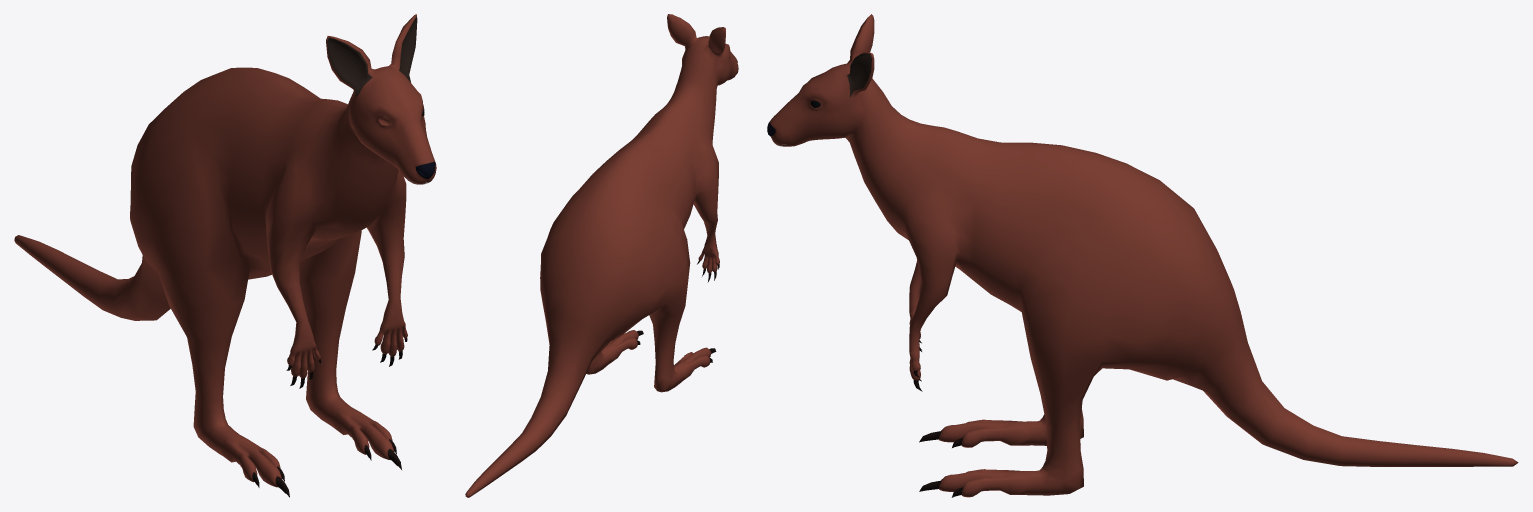
Rendered from kangaroo.obj.
The picture shows the model from 3 angles, left to right: view 1: azimuth 30°, elevation 25°; view 2: azimuth 150°, elevation 25°; view 3: azimuth 270°, elevation 25°; orthographic projection. The views are drawn at different scales.
Visible parts, largest first — view 1: kangaroo; view 2: kangaroo; view 3: kangaroo.
Boxes of the visible parts, x1=… form: kangaroo: x1=14, y1=14, x2=436, y2=497; kangaroo: x1=465, y1=14, x2=738, y2=497; kangaroo: x1=767, y1=14, x2=1518, y2=497.
Bounding box in the file's own units: 0.676 × 1.67 × 2.62.
